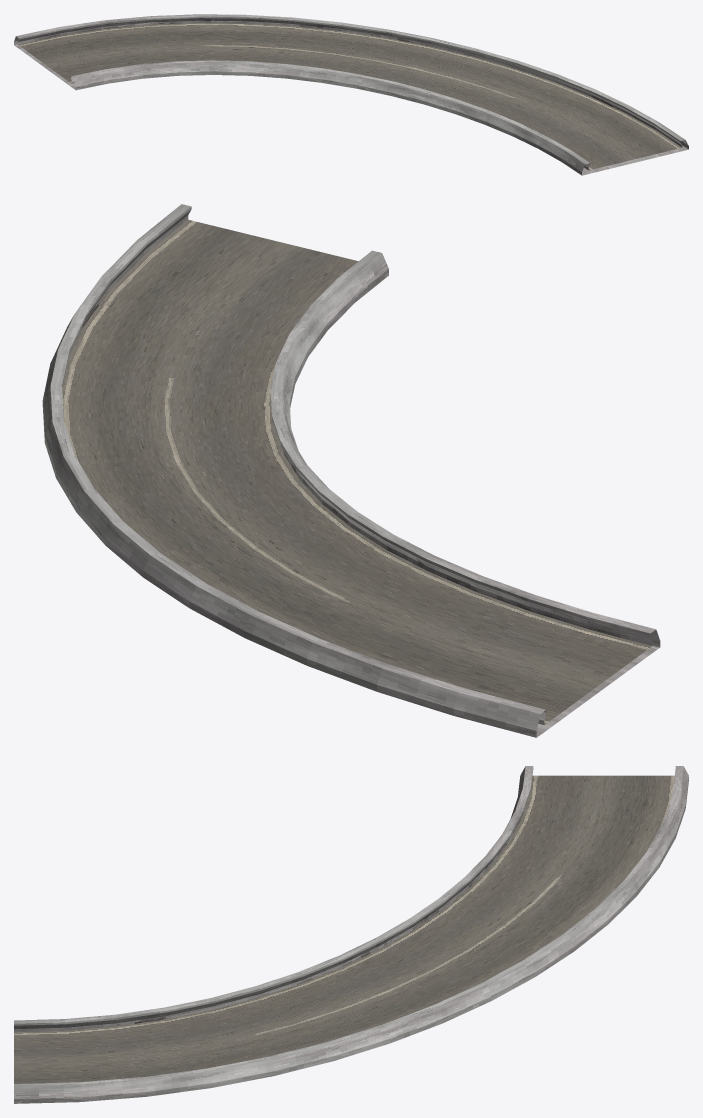
The model's file is turn-left4x4.glb.
3 views of the same model, one above another, from view 1: azimuth 30°, elevation 25°; view 2: azimuth 150°, elevation 25°; view 3: azimuth 270°, elevation 25° (orthographic). The views are drawn at different scales.
Parts seen in each view (by area): view 1: road-Turn-Flat-Flat-Up1-Left-Size4; view 2: road-Turn-Flat-Flat-Up1-Left-Size4; view 3: road-Turn-Flat-Flat-Up1-Left-Size4.
Part boxes in pixels (x1,y1,x2,y2): road-Turn-Flat-Flat-Up1-Left-Size4: (14, 14, 688, 175); road-Turn-Flat-Flat-Up1-Left-Size4: (42, 204, 660, 737); road-Turn-Flat-Flat-Up1-Left-Size4: (14, 766, 688, 1103).
Bounding box in the file's own units: 4 × 0.3438 × 4.
Materials: 2 (2 with a texture image).
